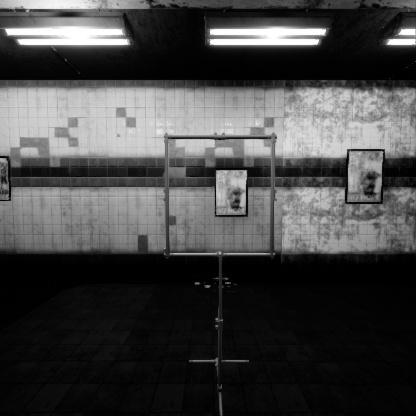gate: (165, 157, 287, 282)
